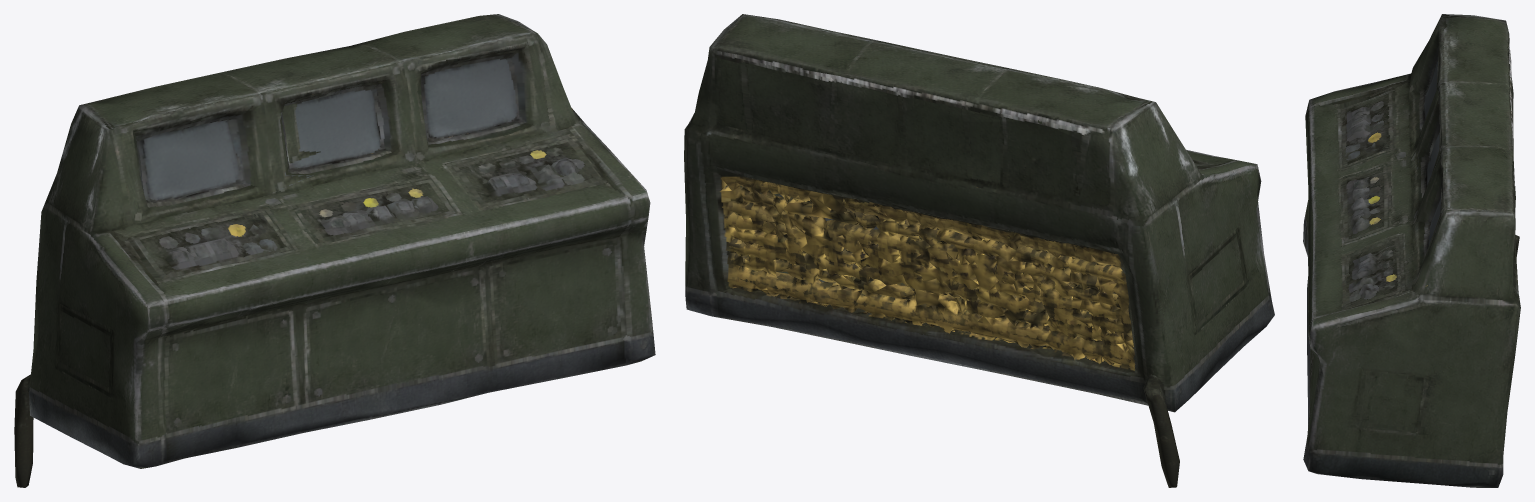
The model's file is bunker_command_console_candidate.glb.
3 renders of one model, left to right at view 1: azimuth 30°, elevation 25°; view 2: azimuth 150°, elevation 25°; view 3: azimuth 270°, elevation 25°, orthographic. The views are drawn at different scales.
Parts seen in each view (by area): view 1: bunker_command_console_candidate; view 2: bunker_command_console_candidate; view 3: bunker_command_console_candidate.
Boxes of the visible parts, left/top/right/bottom form: bunker_command_console_candidate: left=14, top=14, right=655, bottom=487; bunker_command_console_candidate: left=684, top=14, right=1274, bottom=487; bunker_command_console_candidate: left=1303, top=14, right=1520, bottom=487.
Size of the model in its own units: 1.8 by 1.2 by 0.72.
Materials: 1 (1 with a texture image).
